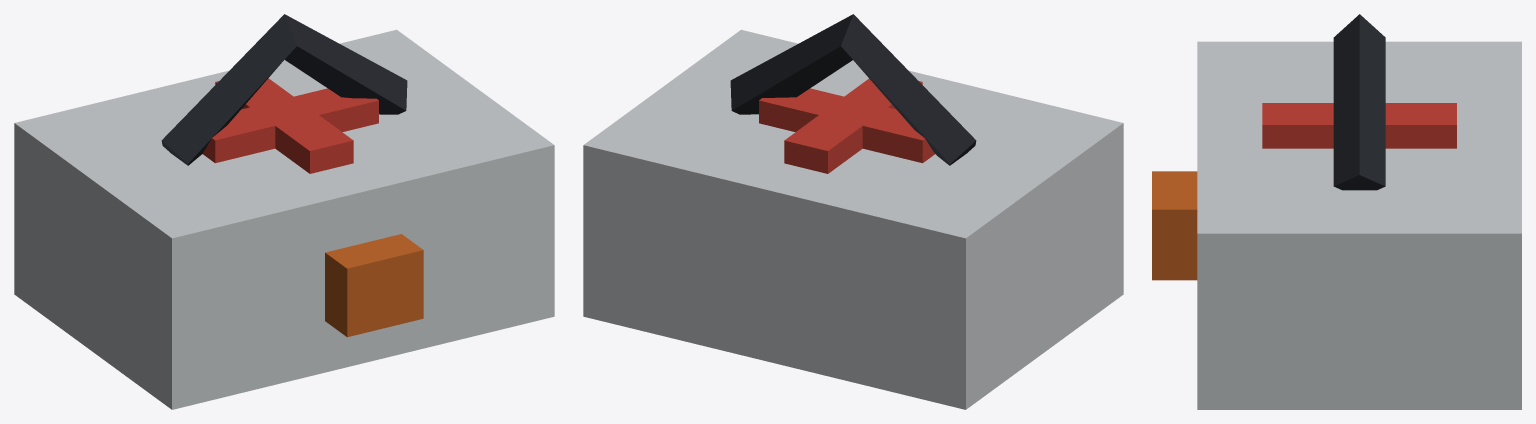
The model's file is vitapac.glb.
The picture shows the model from 3 angles, left to right: view 1: azimuth 30°, elevation 25°; view 2: azimuth 150°, elevation 25°; view 3: azimuth 270°, elevation 25°; orthographic projection. The views are drawn at different scales.
Parts seen in each view (by area): view 1: m; view 2: m; view 3: m.
Boxes of the visible parts, x1,y1,x2,y2 form: m: (14,14,554,409); m: (583,14,1123,409); m: (1152,14,1521,409).
Size of the model in its own units: 0.08 by 0.0583 by 0.0651.
